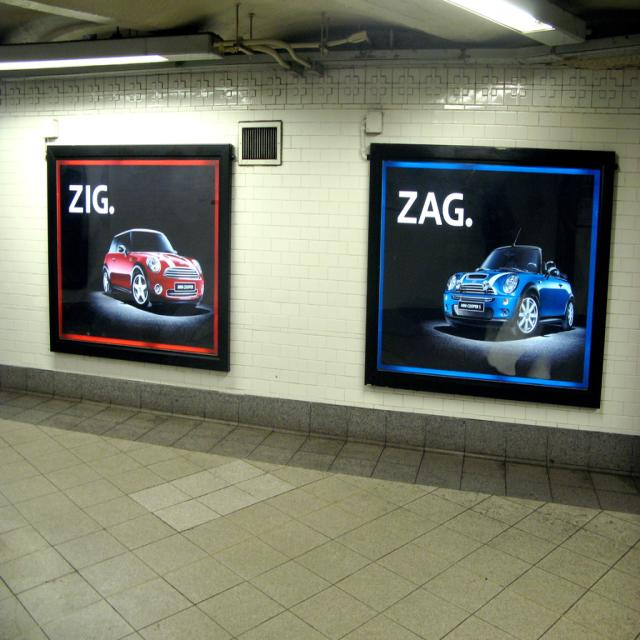car: (440, 239, 576, 336), (102, 225, 204, 305)
